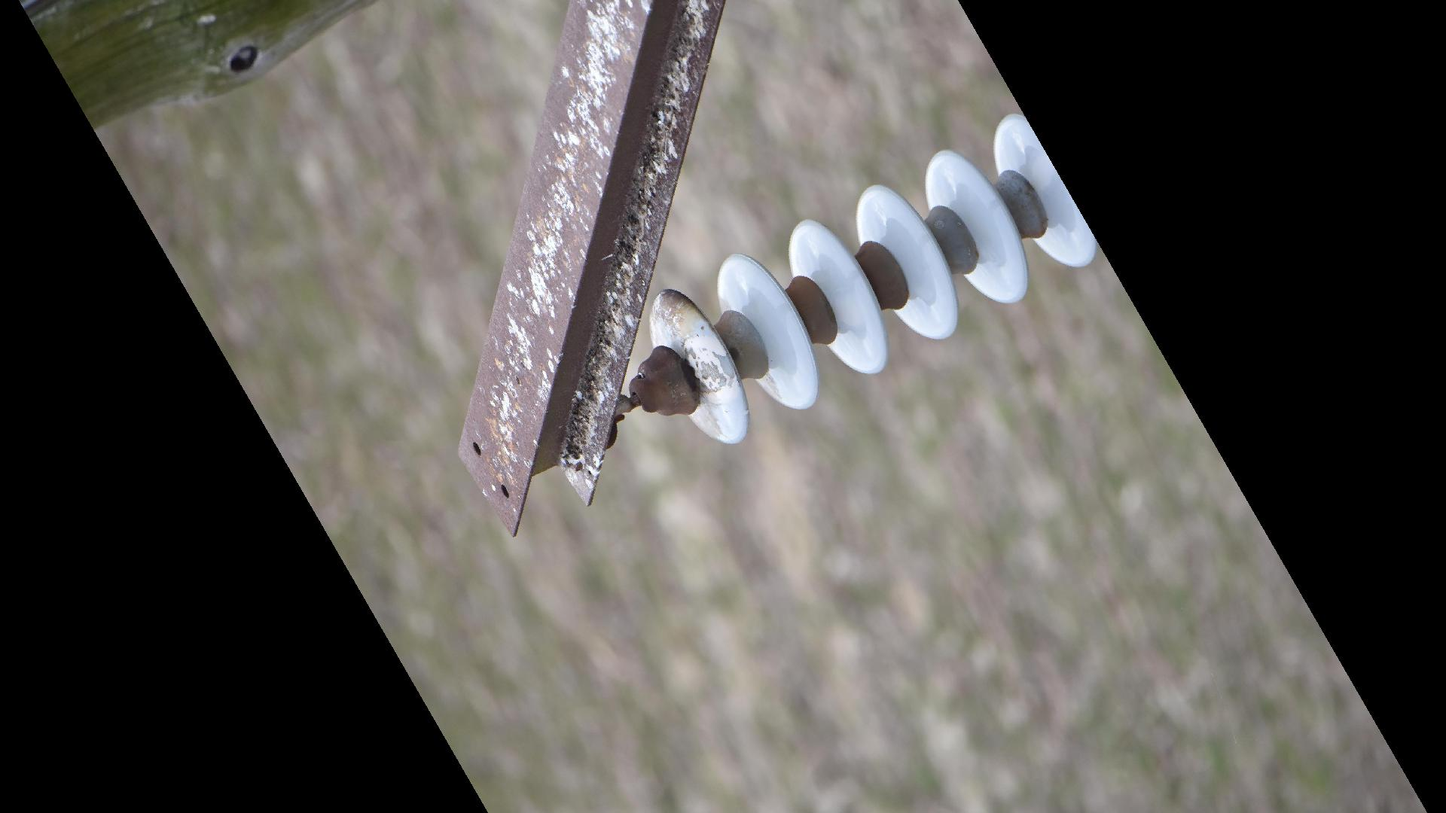insulator: (647, 108, 1103, 449)
insulator_flashover: (682, 335, 737, 396)
